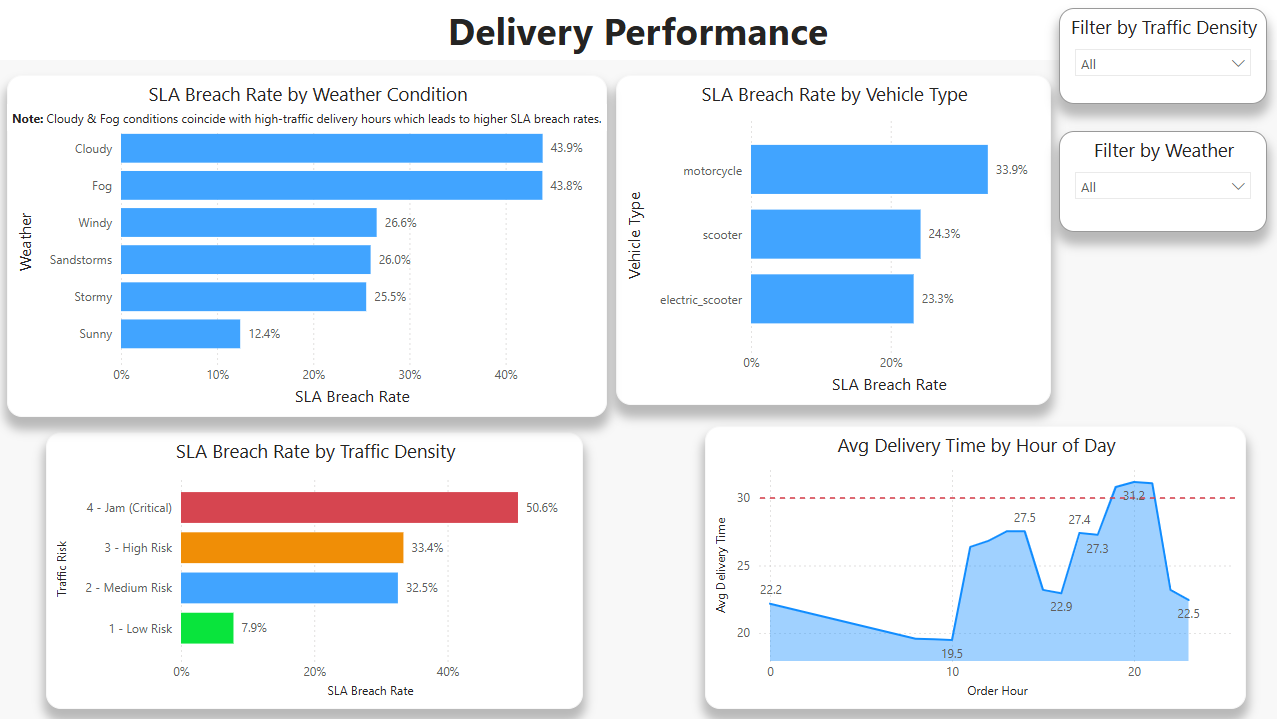

The page's visual inventory and layout, read from the dashboard file:
{"tool":"powerbi","page":{"name":"Delivery Performance","canvas":[1280,720],"ordinal":1},"visuals":[{"type":"textbox","box":[0,0,1280,60],"z":0},{"type":"clusteredBarChart","title":"SLA Breach Rate by Weather Condition","fields":{"Y":["orders_clean.SLA Breach Rate"],"Category":["orders_clean.weather"]},"box":[9,75,599.6,341.7],"z":1000,"group":"g1"},{"type":"clusteredBarChart","title":"SLA Breach Rate by Traffic Density","fields":{"Y":["orders_clean.SLA Breach Rate"],"Category":["orders_clean.traffic_risk"]},"box":[48,432,537,277],"z":2000},{"type":"lineChart","title":"Avg Delivery Time by Hour of Day","fields":{"Y":["orders_clean.Avg Delivery Time"],"Category":["orders_clean.order_hour"]},"box":[707,426,541,283],"z":3000},{"type":"clusteredBarChart","title":"SLA Breach Rate by Vehicle Type","fields":{"Y":["orders_clean.SLA Breach Rate"],"Category":["orders_clean.vehicle_type"]},"box":[618,75,435,330],"z":4000},{"type":"slicer","title":"Filter by Traffic Density","fields":{"Values":["orders_clean.traffic_density"]},"box":[1061,8,208,96],"z":5000},{"type":"slicer","title":"Filter by Weather","fields":{"Values":["orders_clean.weather"]},"box":[1061,131,208,101],"z":6000},{"type":"textbox","box":[9,104.1,599.7,26.6],"z":7000,"group":"g1"},{"type":"group","id":"g1","title":"Group 1","box":[9,75,600,342],"z":7001}]}

Visuals, with their boxes in screenshot pixels (x1, y1, x2, y2), scaled from the page's 1280x720 canvas onto the 1277x719 screenshot:
textbox: <box>0,0,1276,60</box>
"SLA Breach Rate by Weather Condition" clusteredBarChart: <box>9,75,607,416</box>
"SLA Breach Rate by Traffic Density" clusteredBarChart: <box>48,431,584,708</box>
"Avg Delivery Time by Hour of Day" lineChart: <box>705,425,1245,708</box>
"SLA Breach Rate by Vehicle Type" clusteredBarChart: <box>617,75,1051,404</box>
"Filter by Traffic Density" slicer: <box>1059,8,1266,104</box>
"Filter by Weather" slicer: <box>1059,131,1266,232</box>
textbox: <box>9,104,607,131</box>
"Group 1" group: <box>9,75,608,416</box>
